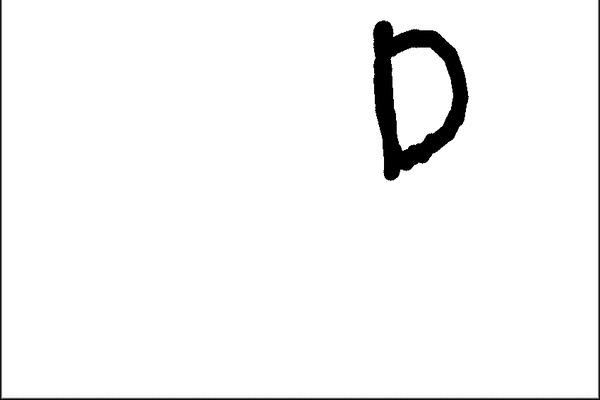D: (367, 10, 485, 183)
